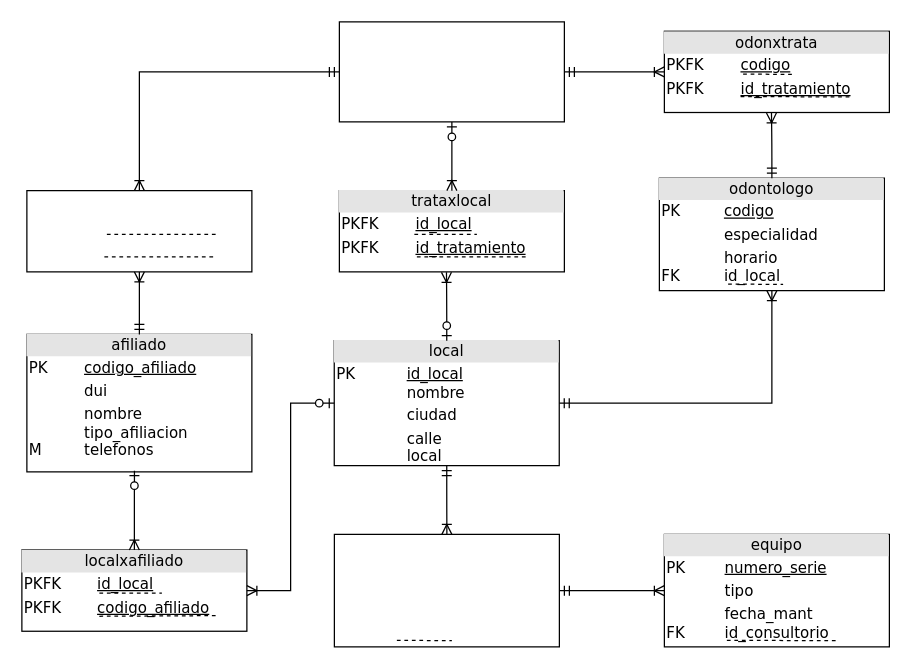
Some shapes in this 911 by 669 pixel diagram are drawn without their labels. Here are the shapes that lost their labels. From the top down, the centre of each, then its label:
the point at 451,71: tratamiento PK id_tratamiento nombre costo
the point at 139,230: trataxafiliado PKFK codigo_afiliado PKFK id_tratamiento
the point at 446,590: consultorio PK id_consultorio area M FK caracteristicas id_local
